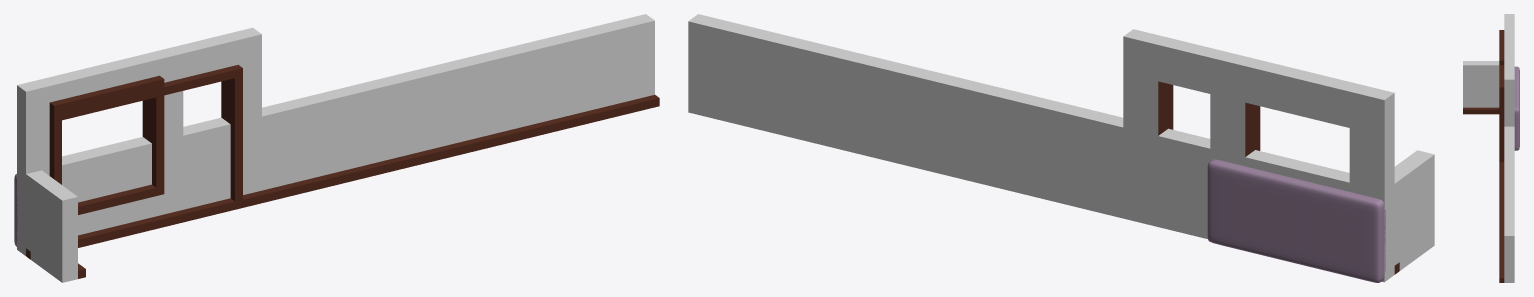
File: LevelParts.fbx
3 views of the same model, side by side, from view 1: azimuth 30°, elevation 25°; view 2: azimuth 150°, elevation 25°; view 3: azimuth 270°, elevation 25° (orthographic). The views are drawn at different scales.
Parts seen in each view (by area): view 1: Wall_8, Wall_4, Window, DoorFrame, Wall_2, Wall_Corner, Wall_1; view 2: Wall_8, DoorFrame, Window, Cubicle_2, Cubicle_1, Wall_4, Wall_Corner, Wall_2, Wall_1; view 3: Wall_8, Wall_Corner, DoorFrame, Window, Cubicle_2, Wall_4, Cubicle_1.
Part boxes in pixels (x1,y1,x2,y2): Wall_8: (62,14,659,247); Wall_4: (62,91,344,247); Window: (17,47,187,245); DoorFrame: (17,27,266,257); Wall_2: (44,136,187,247); Wall_Corner: (26,148,106,282); Wall_1: (17,148,109,259); Wall_8: (688,14,1377,238); DoorFrame: (1123,29,1394,280); Window: (1210,51,1394,281); Cubicle_2: (1207,159,1365,278); Cubicle_1: (1302,181,1385,282); Wall_4: (1037,99,1384,238); Wall_Corner: (1332,150,1434,270); Wall_2: (1210,149,1384,281); Wall_1: (1297,163,1399,281); Wall_8: (1499,126,1514,282); Wall_Corner: (1463,61,1499,114); DoorFrame: (1499,22,1514,167); Window: (1499,14,1514,65); Cubicle_2: (1514,70,1519,150); Wall_4: (1499,126,1514,187); Cubicle_1: (1514,66,1519,86).
Bounding box in the file's own units: 8 × 2 × 1.1.
